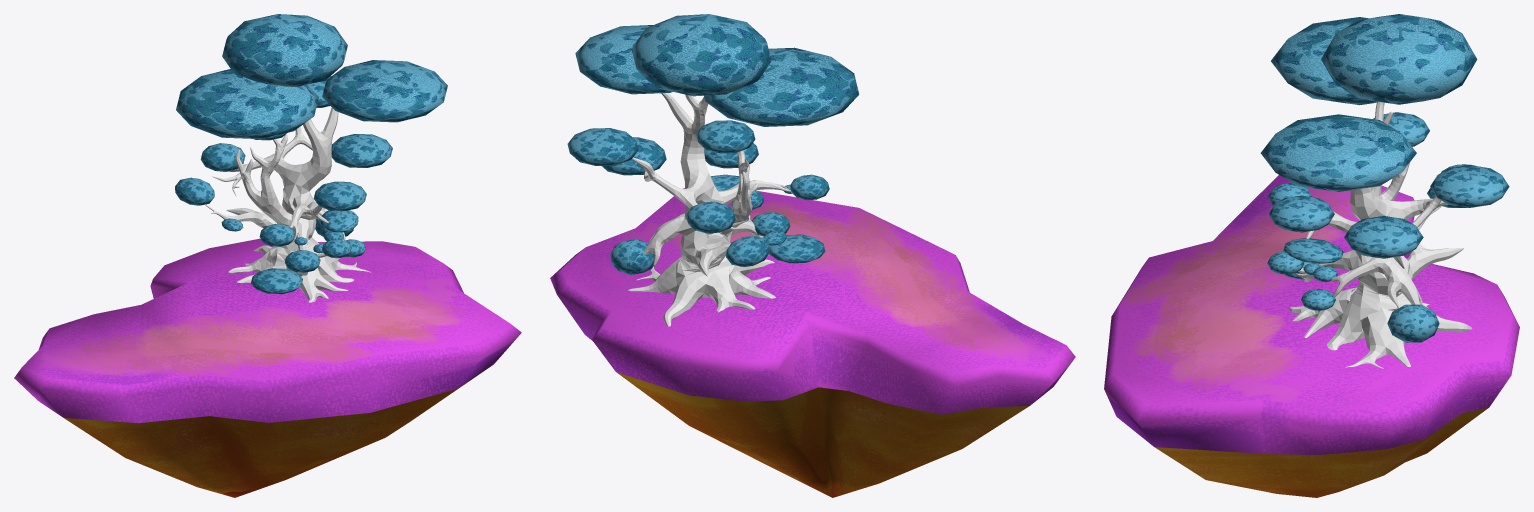
File: mainIsland.gltf
3 views of the same model, side by side, from view 1: azimuth 30°, elevation 25°; view 2: azimuth 150°, elevation 25°; view 3: azimuth 270°, elevation 25° (orthographic). The views are drawn at different scales.
Parts seen in each view (by area): view 1: Vert.001, Vert, Vert.002, ICO球.011, ICO球.007, ICO球.006, ICO球.018, ICO球.010, ICO球.001, ICO球.019, ICO球.008, ICO球.014 (+2 smaller); view 2: Vert.001, Vert, Vert.002, ICO球.011, ICO球.007, ICO球.006, ICO球.017, ICO球.016, ICO球.019, ICO球.001, ICO球.012, ICO球.018 (+4 smaller); view 3: Vert.001, Vert.002, ICO球.011, Vert, ICO球.006, ICO球.007, ICO球.017, ICO球.018, ICO球.010, ICO球.012, ICO球.014, ICO球.016 (+3 smaller).
Boxes of the visible parts, x1,y1,x2,y2 form: Vert.001: [14, 238, 521, 423]; Vert: [64, 371, 483, 497]; Vert.002: [204, 107, 371, 302]; ICO球.011: [222, 14, 347, 86]; ICO球.007: [176, 69, 318, 139]; ICO球.006: [322, 60, 447, 122]; ICO球.018: [331, 134, 392, 167]; ICO球.010: [313, 181, 366, 211]; ICO球.001: [251, 268, 302, 294]; ICO球.019: [200, 143, 245, 171]; ICO球.008: [175, 177, 214, 205]; ICO球.014: [320, 210, 358, 232]; Vert.001: [550, 188, 1075, 414]; Vert: [589, 338, 1029, 497]; Vert.002: [628, 93, 791, 326]; ICO球.011: [631, 14, 771, 96]; ICO球.007: [704, 47, 859, 126]; ICO球.006: [575, 25, 672, 94]; ICO球.017: [567, 128, 638, 165]; ICO球.016: [696, 120, 755, 153]; ICO球.019: [686, 201, 735, 233]; ICO球.001: [769, 234, 825, 263]; ICO球.012: [610, 239, 654, 274]; ICO球.018: [602, 137, 666, 175]; Vert.001: [1104, 175, 1519, 454]; Vert.002: [1289, 102, 1472, 368]; ICO球.011: [1321, 14, 1477, 104]; Vert: [1154, 407, 1488, 497]; ICO球.006: [1260, 114, 1416, 191]; ICO球.007: [1271, 17, 1377, 105]; ICO球.017: [1430, 165, 1509, 207]; ICO球.018: [1344, 216, 1423, 258]; ICO球.010: [1269, 195, 1334, 232]; ICO球.012: [1387, 304, 1439, 342]; ICO球.014: [1283, 238, 1343, 263]; ICO球.016: [1373, 112, 1429, 146].
Size of the model in its own units: 77.29 by 72.91 by 52.73.
3 materials, 3 textured.
